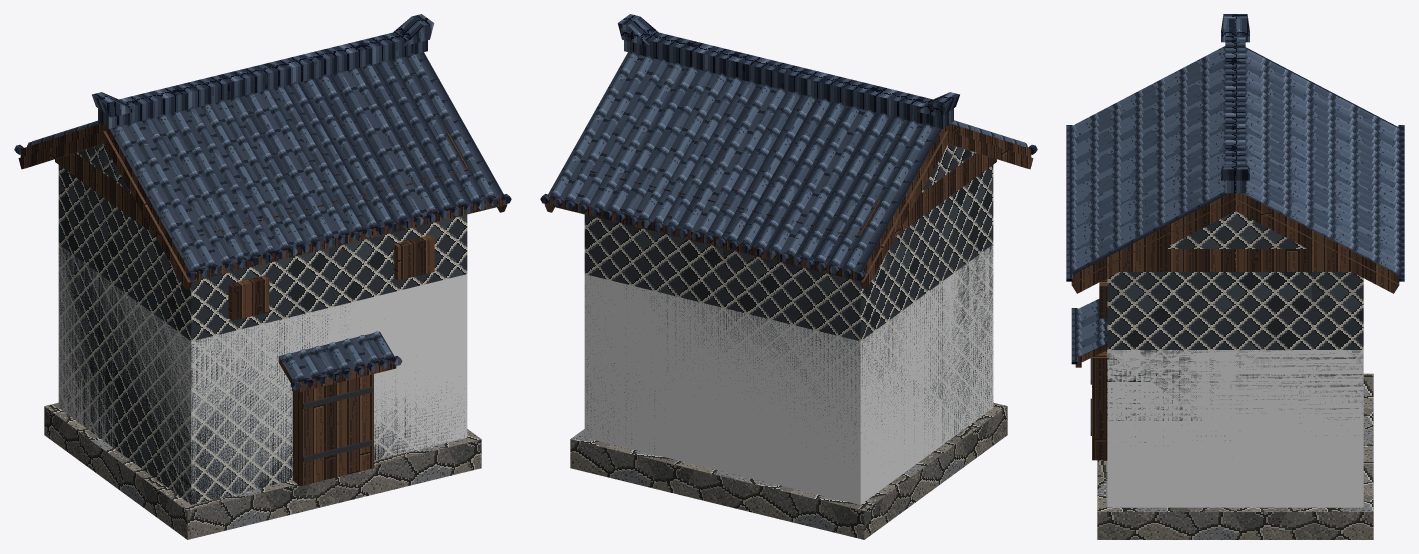
The model's file is JP_Rich_Storehouse_A.glb.
3 renders of one model, left to right at view 1: azimuth 30°, elevation 25°; view 2: azimuth 150°, elevation 25°; view 3: azimuth 270°, elevation 25°, orthographic. The views are drawn at different scales.
Visible parts, largest first — view 1: JP_Rich_Storehouse_A, COL_JP_Rich_Storehouse_A; view 2: JP_Rich_Storehouse_A, COL_JP_Rich_Storehouse_A; view 3: JP_Rich_Storehouse_A, COL_JP_Rich_Storehouse_A.
Part boxes in pixels (box(x1,y1,x2,y2)): JP_Rich_Storehouse_A: box(14, 14, 511, 539); COL_JP_Rich_Storehouse_A: box(58, 244, 467, 503); JP_Rich_Storehouse_A: box(540, 14, 1037, 539); COL_JP_Rich_Storehouse_A: box(584, 244, 993, 504); JP_Rich_Storehouse_A: box(1066, 14, 1404, 539); COL_JP_Rich_Storehouse_A: box(1107, 350, 1363, 507).
Size of the model in its own units: 7.18 by 8.16 by 6.6.
7 materials, 7 textured.
